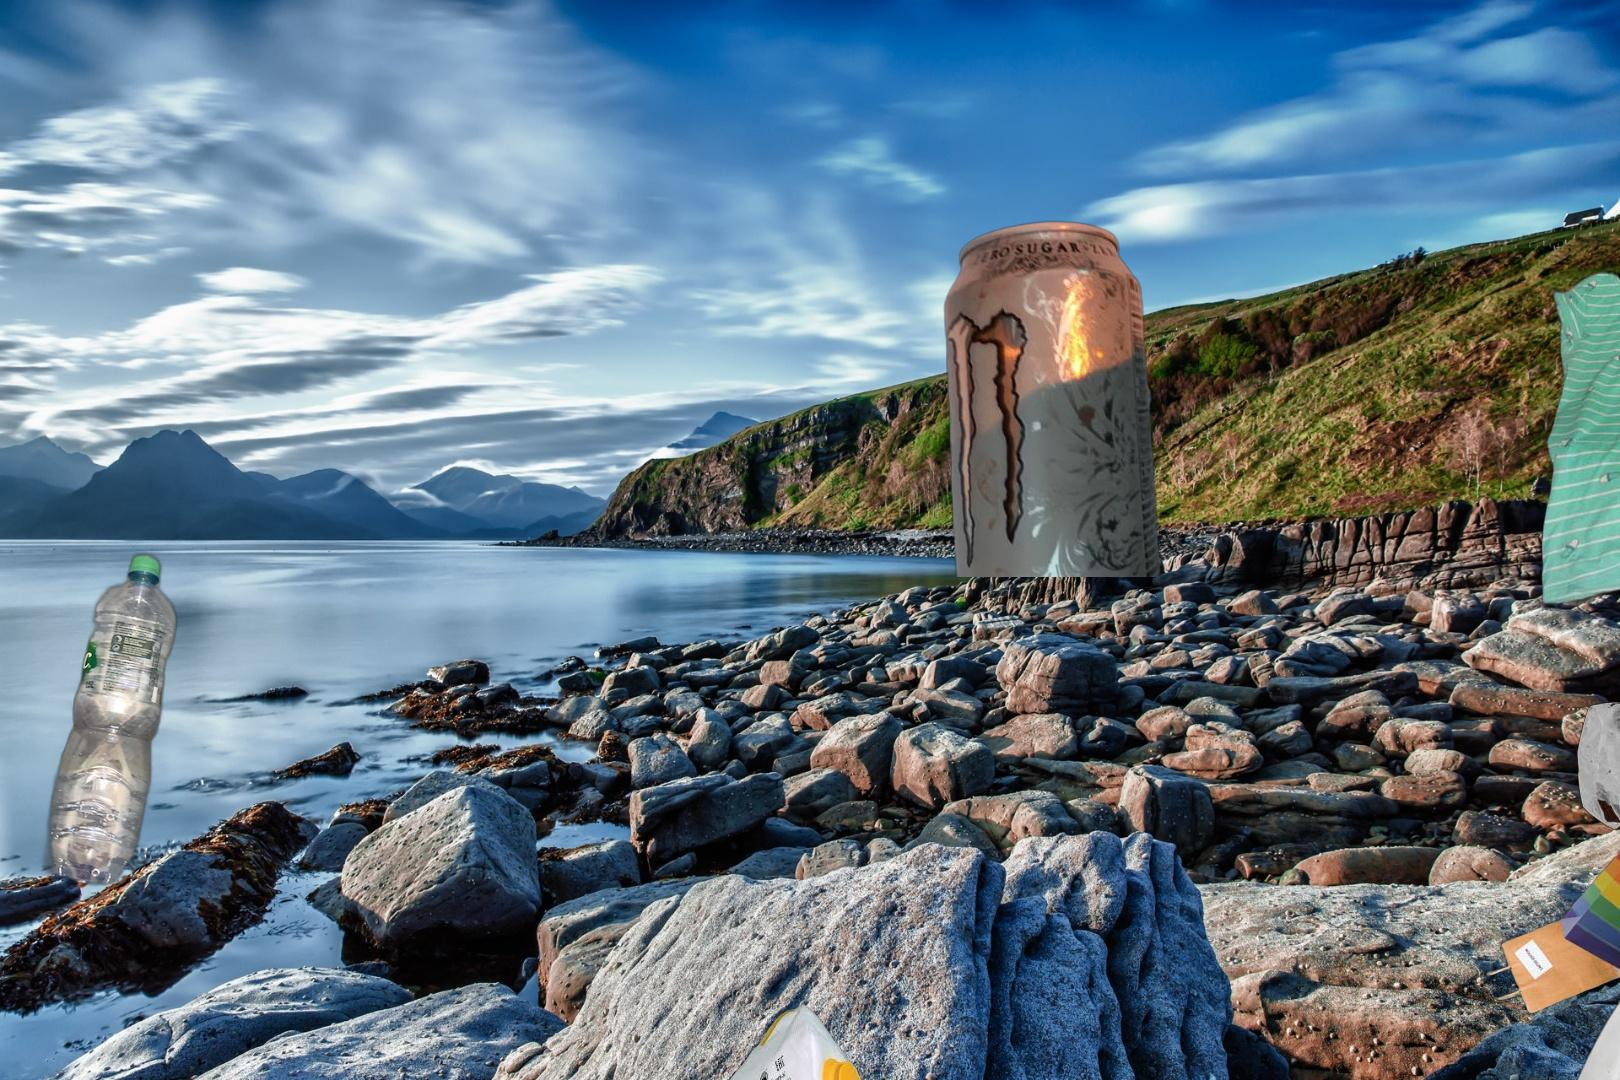biological: (1525, 1047, 1620, 1080)
clothes: (1538, 225, 1620, 610)
metal-cans: (940, 218, 1166, 577)
paper-bag: (1483, 843, 1620, 1017)
plastic-bag: (1477, 663, 1620, 832)
plastic-bottles: (39, 548, 180, 890), (1537, 982, 1620, 1080)
trash: (715, 1000, 888, 1080)
